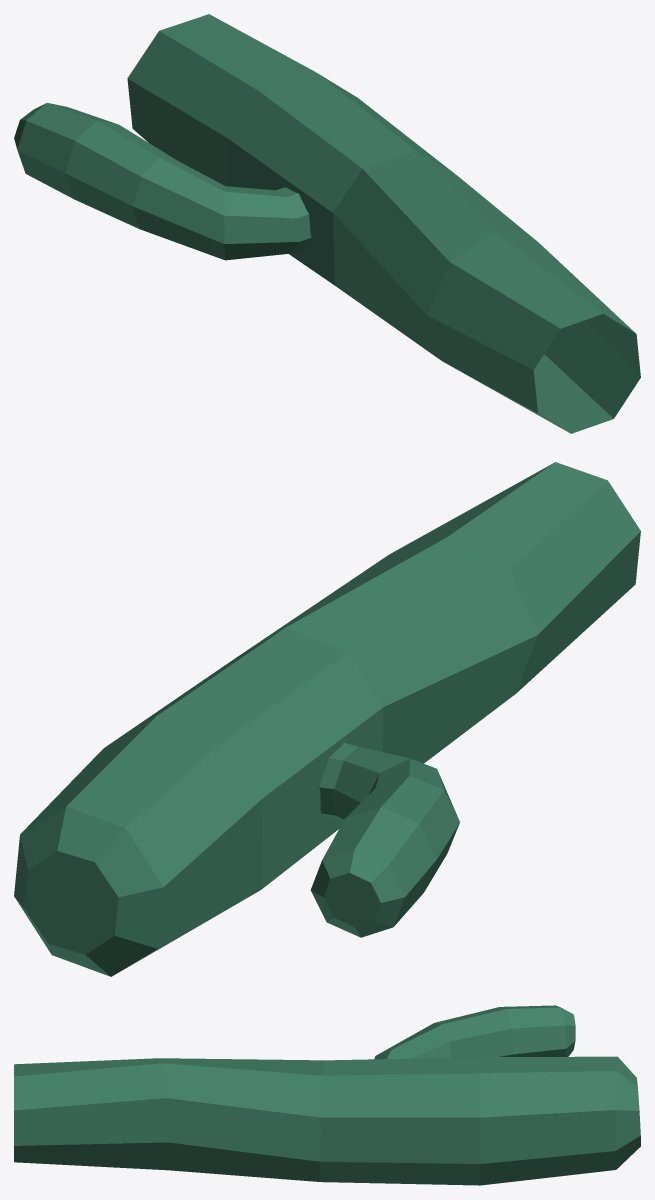
The model's file is Cactus_2.fbx.
The picture shows the model from 3 angles, top to bottom: view 1: azimuth 30°, elevation 25°; view 2: azimuth 150°, elevation 25°; view 3: azimuth 270°, elevation 25°; orthographic projection. The views are drawn at different scales.
Visible parts, largest first — view 1: Cactus_2.001; view 2: Cactus_2.001; view 3: Cactus_2.001.
Boxes of the visible parts, x1,y1,x2,y2 form: Cactus_2.001: [14, 14, 640, 433]; Cactus_2.001: [14, 462, 640, 976]; Cactus_2.001: [14, 1005, 640, 1185].
Bounding box in the file's own units: 1.55 × 0.7297 × 3.72.
